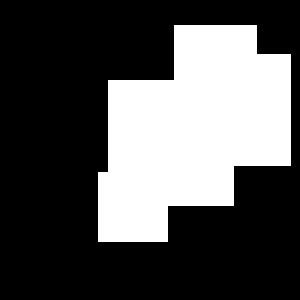circle: (108, 80, 234, 206), (179, 54, 291, 166), (174, 25, 257, 108), (98, 172, 168, 242)
